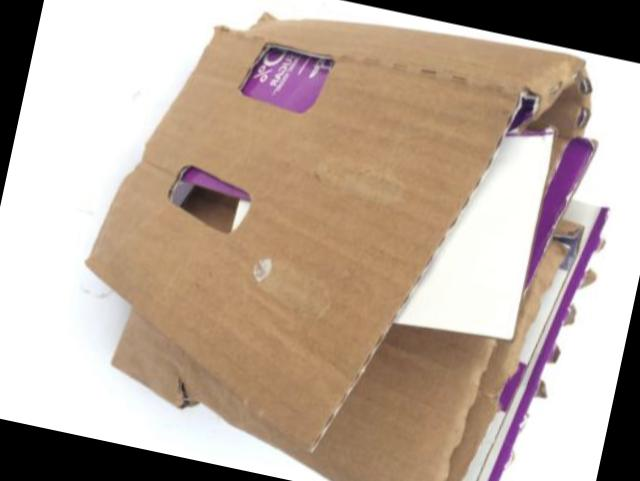cardboard paper: (90, 12, 609, 481)
